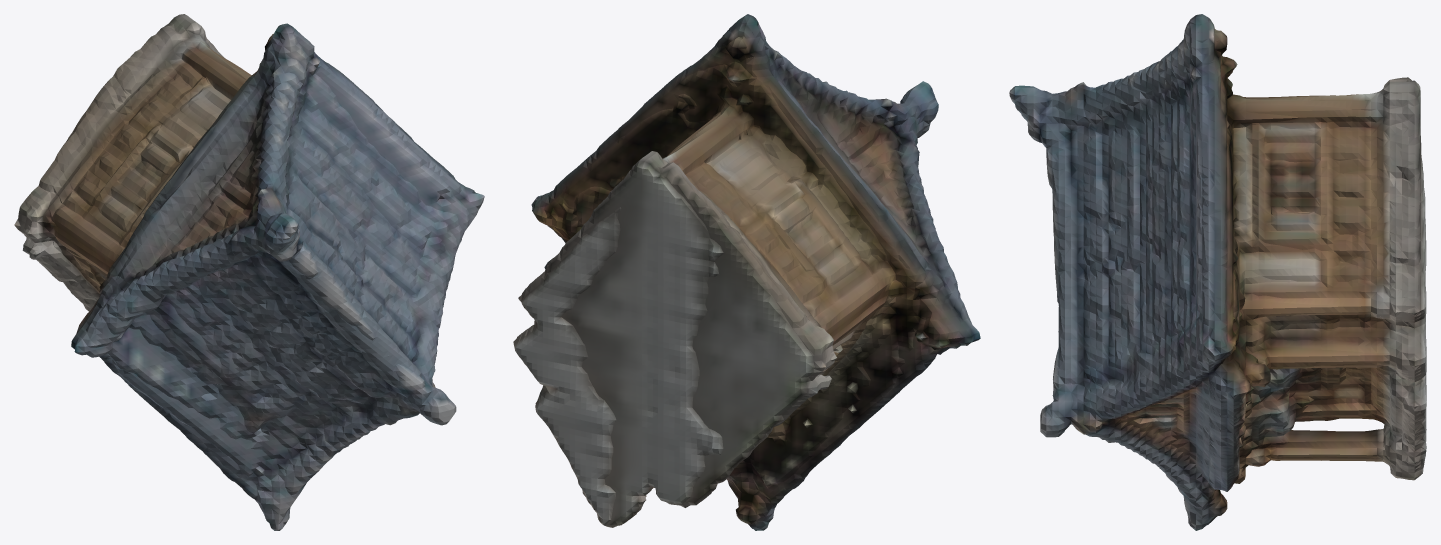
Rendered from shrine_01_simple_clean.glb.
3 views of the same model, side by side, from view 1: azimuth 30°, elevation 25°; view 2: azimuth 150°, elevation 25°; view 3: azimuth 270°, elevation 25° (orthographic). The views are drawn at different scales.
Visible parts, largest first — view 1: world; view 2: world; view 3: world.
Part boxes in pixels (x1,y1,x2,y2): world: (14,14,484,530); world: (513,14,980,530); world: (1009,14,1426,530).
Bounding box in the file's own units: 1.77 × 2 × 1.46.
